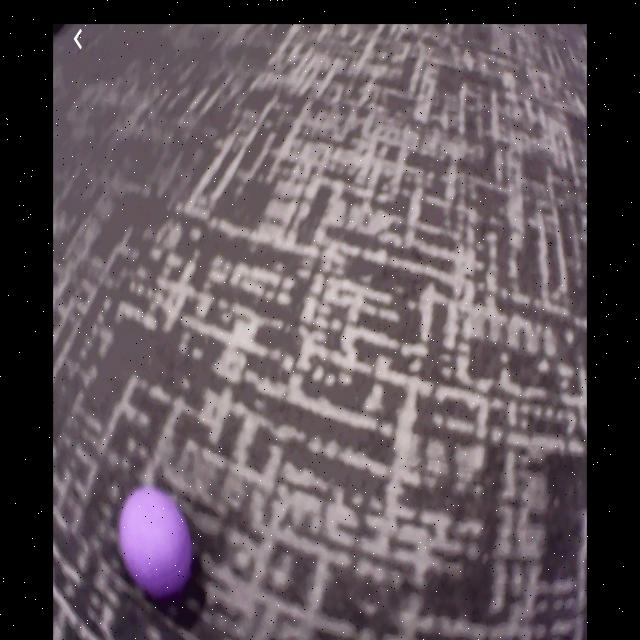ball: (120, 488, 196, 595)
